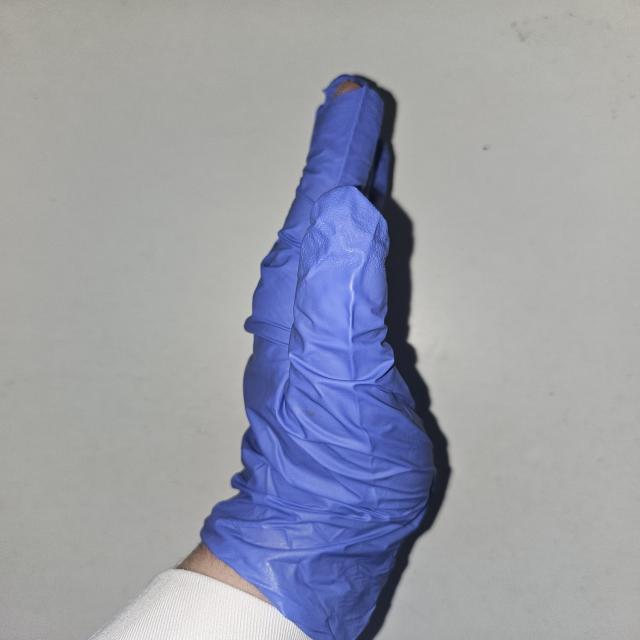gloves_damaged: (198, 68, 441, 566)
